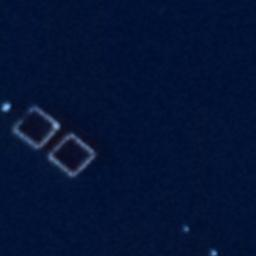square_solid: (44, 132, 100, 180), (11, 105, 61, 153)
